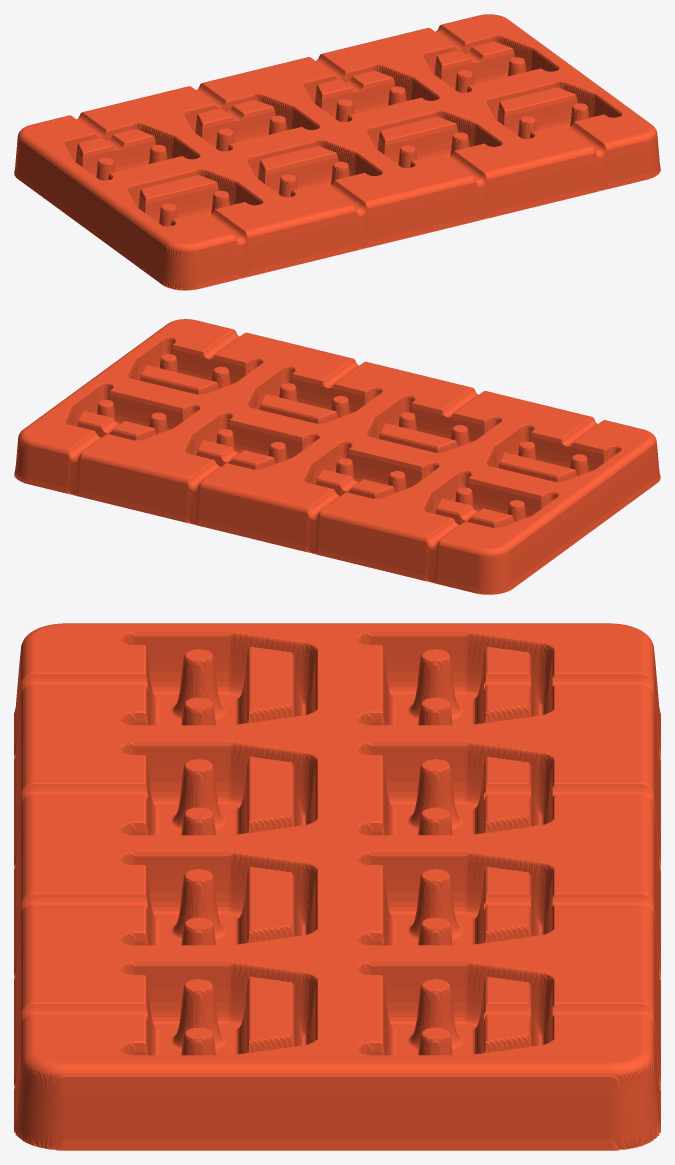
The model's file is mold.glb.
The picture shows the model from 3 angles, top to bottom: view 1: azimuth 30°, elevation 25°; view 2: azimuth 150°, elevation 25°; view 3: azimuth 270°, elevation 25°; orthographic projection. The views are drawn at different scales.
Parts seen in each view (by area): view 1: geometry_0; view 2: geometry_0; view 3: geometry_0.
Part boxes in pixels (left/top/right/bottom): geometry_0: left=14, top=14, right=660, bottom=290; geometry_0: left=14, top=319, right=660, bottom=594; geometry_0: left=14, top=623, right=660, bottom=1150.
Size of the model in its own units: 0.1907 by 0.0155 by 0.1146.
